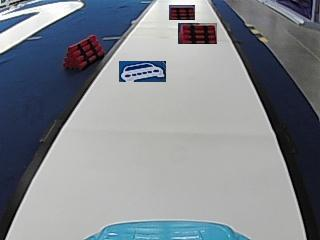bomb: (64, 32, 102, 70)
